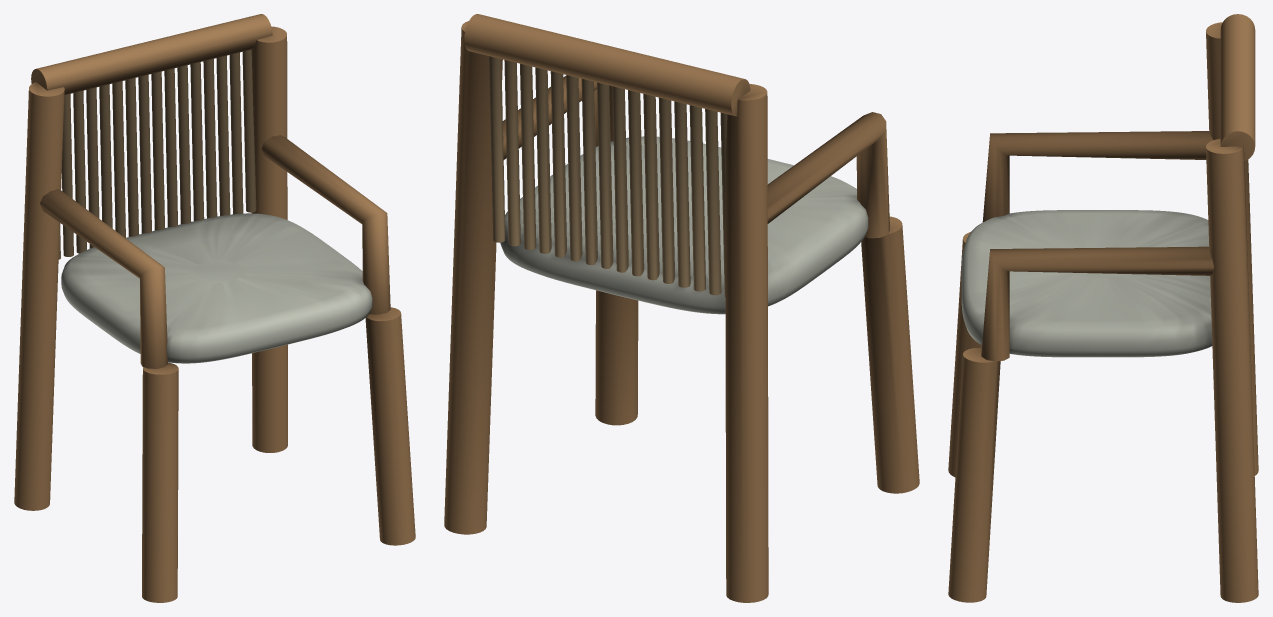
The model's file is cord-seat.glb.
3 views of the same model, side by side, from view 1: azimuth 30°, elevation 25°; view 2: azimuth 150°, elevation 25°; view 3: azimuth 270°, elevation 25° (orthographic). The views are drawn at different scales.
Parts seen in each view (by area): view 1: cord-seat; view 2: cord-seat; view 3: cord-seat.
Part boxes in pixels (box(x1,y1,x2,y2)): cord-seat: box(14, 14, 415, 602); cord-seat: box(444, 14, 919, 602); cord-seat: box(948, 14, 1258, 602).
Bounding box in the file's own units: 0.537 × 0.8261 × 0.5031.
